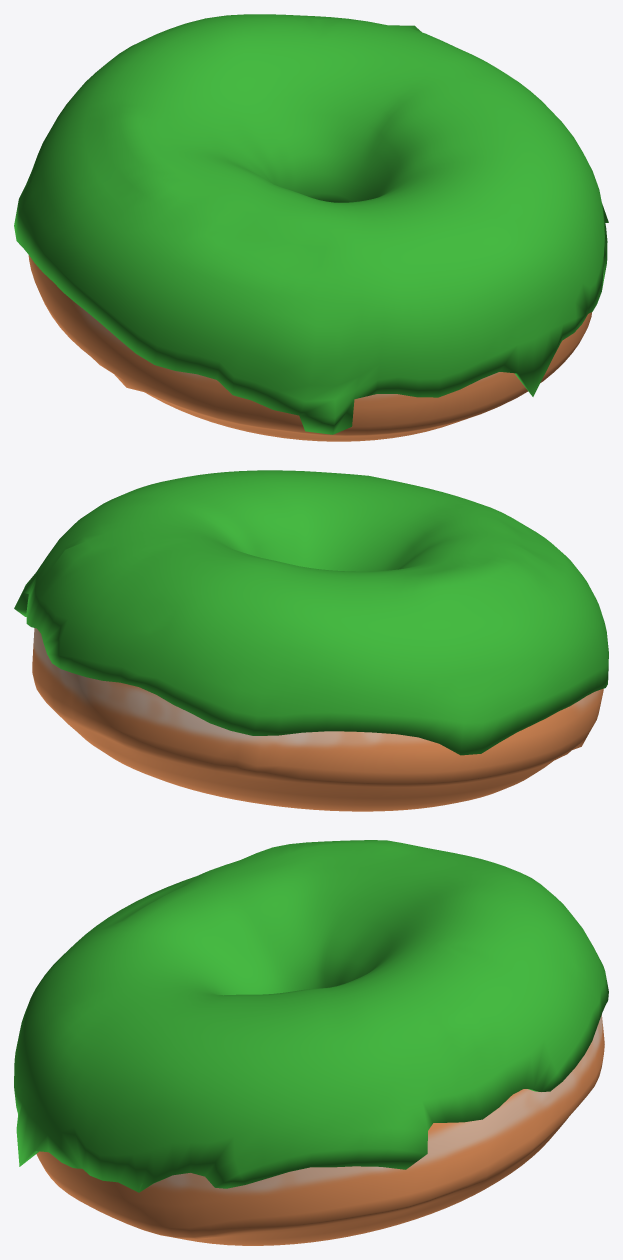
Rendered from donut.gltf.
The picture shows the model from 3 angles, top to bottom: view 1: azimuth 30°, elevation 25°; view 2: azimuth 150°, elevation 25°; view 3: azimuth 270°, elevation 25°; orthographic projection. The views are drawn at different scales.
Parts seen in each view (by area): view 1: Icing, Donut; view 2: Icing, Donut; view 3: Icing, Donut.
Boxes of the visible parts, <box> form: Icing: <box>14,14,608,434</box>; Donut: <box>28,255,591,441</box>; Icing: <box>14,470,608,755</box>; Donut: <box>32,628,603,811</box>; Icing: <box>14,840,608,1192</box>; Donut: <box>36,1014,604,1245</box>.
Bounding box in the file's own units: 0.1053 × 0.0545 × 0.1041.
Materials: 2 (1 with a texture image).
